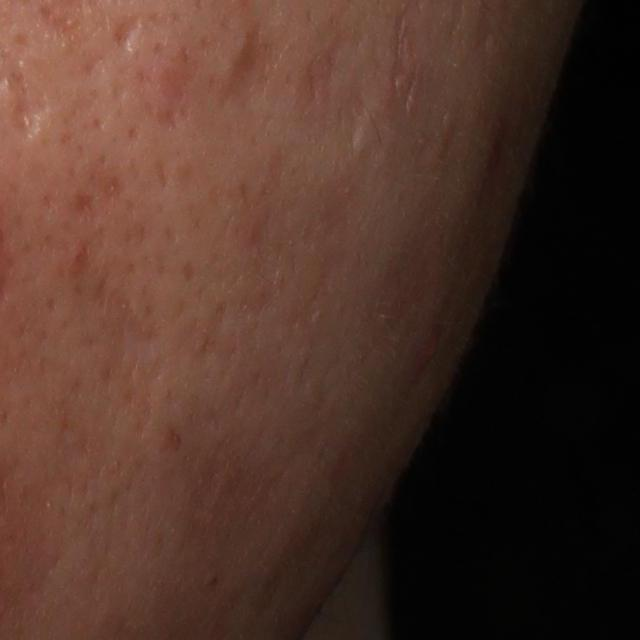atrophic_scar: (214, 22, 288, 116), (156, 52, 206, 127), (106, 13, 147, 55)
papule: (417, 325, 441, 377)
